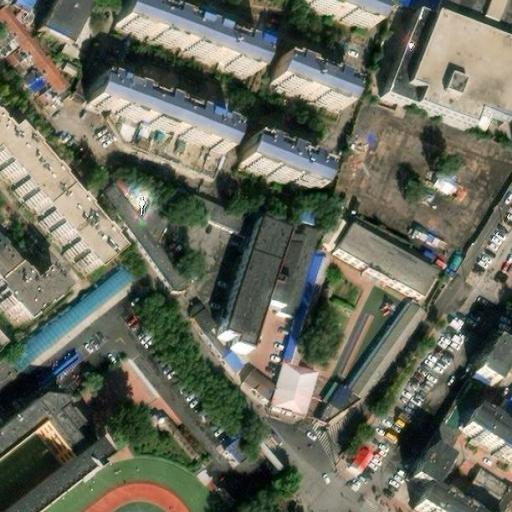building: (375, 19, 512, 137), (78, 74, 228, 158), (14, 259, 133, 362), (93, 166, 187, 295), (109, 0, 261, 78), (217, 223, 283, 352), (334, 223, 437, 301), (345, 299, 415, 395), (0, 450, 104, 512), (28, 195, 105, 277), (0, 1, 65, 95), (232, 127, 327, 189), (0, 398, 88, 463), (282, 252, 331, 366), (267, 48, 353, 104), (0, 263, 58, 334), (402, 452, 456, 512), (182, 187, 253, 232), (459, 411, 512, 463), (243, 309, 289, 367), (460, 462, 512, 511), (467, 331, 512, 387), (270, 362, 316, 413), (39, 0, 93, 42), (341, 433, 377, 473), (269, 238, 300, 283), (220, 429, 255, 464), (259, 282, 293, 317), (242, 366, 275, 397), (428, 165, 460, 195), (324, 382, 351, 410), (193, 307, 217, 332), (224, 350, 242, 370)
